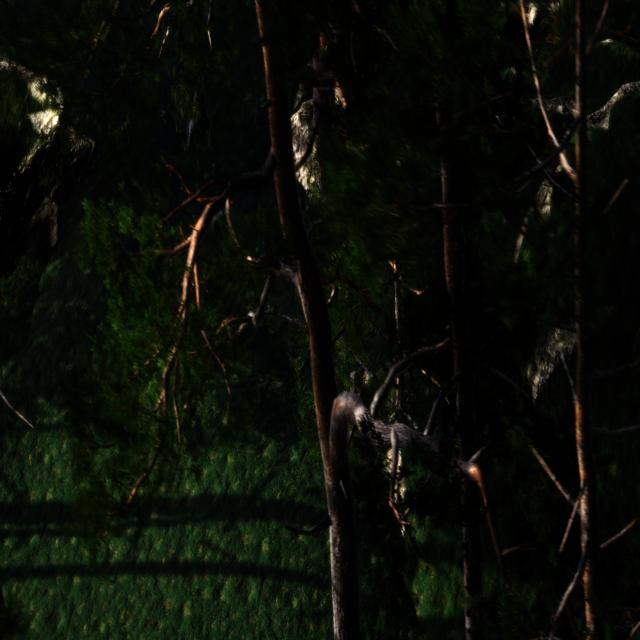Human: (158, 88, 214, 155)
